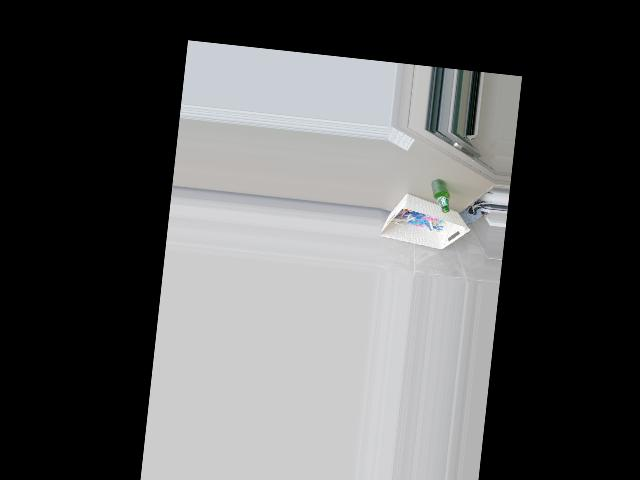beer: (428, 178, 452, 213)
